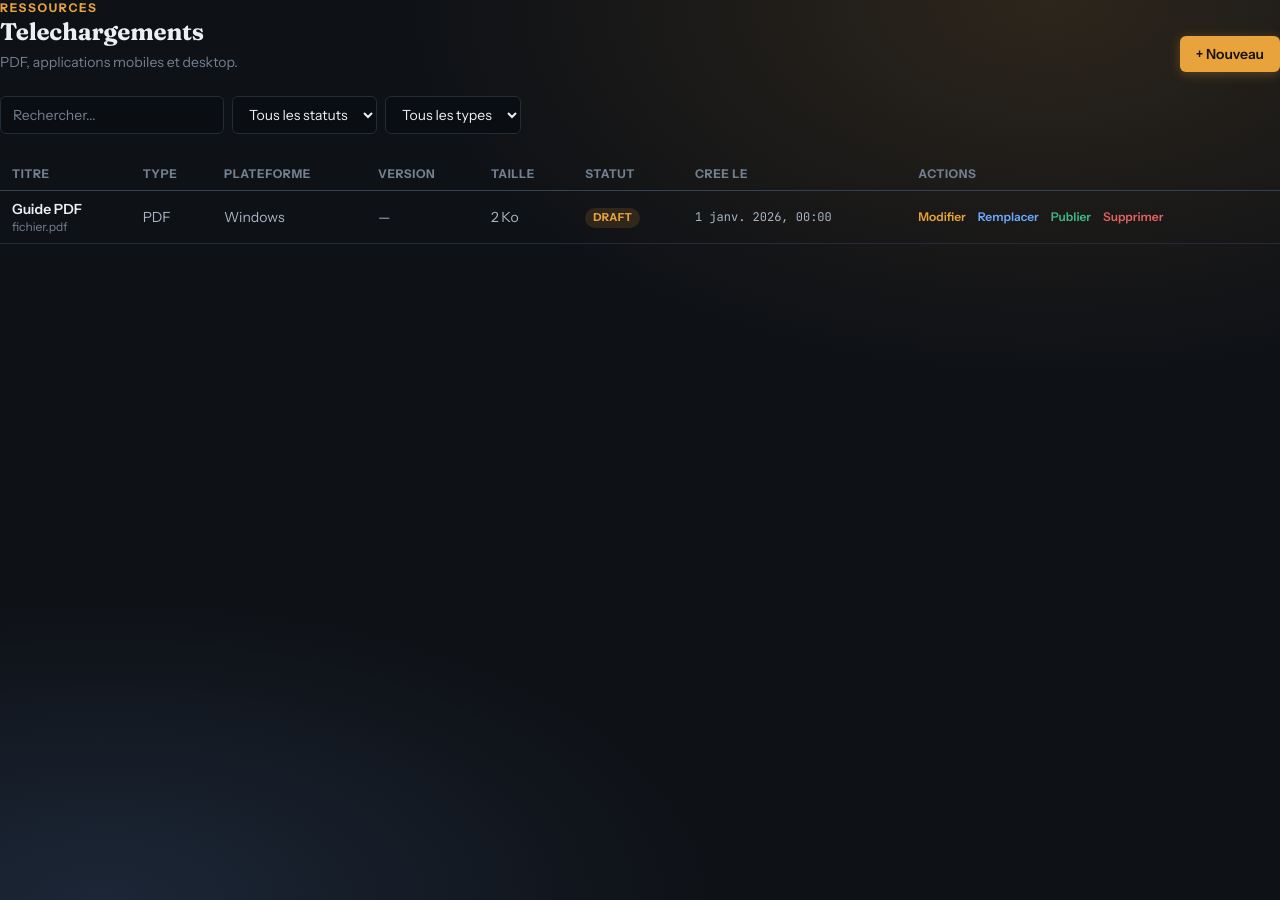
Test: AdminDownloadsPage › ouvre le formulaire de creation
Expected: the text "Guide PDF" is shown, [12,200,82,218]
Click the button "+ Nouveau".
click(1230, 54)  # box [1180,36,1279,72]
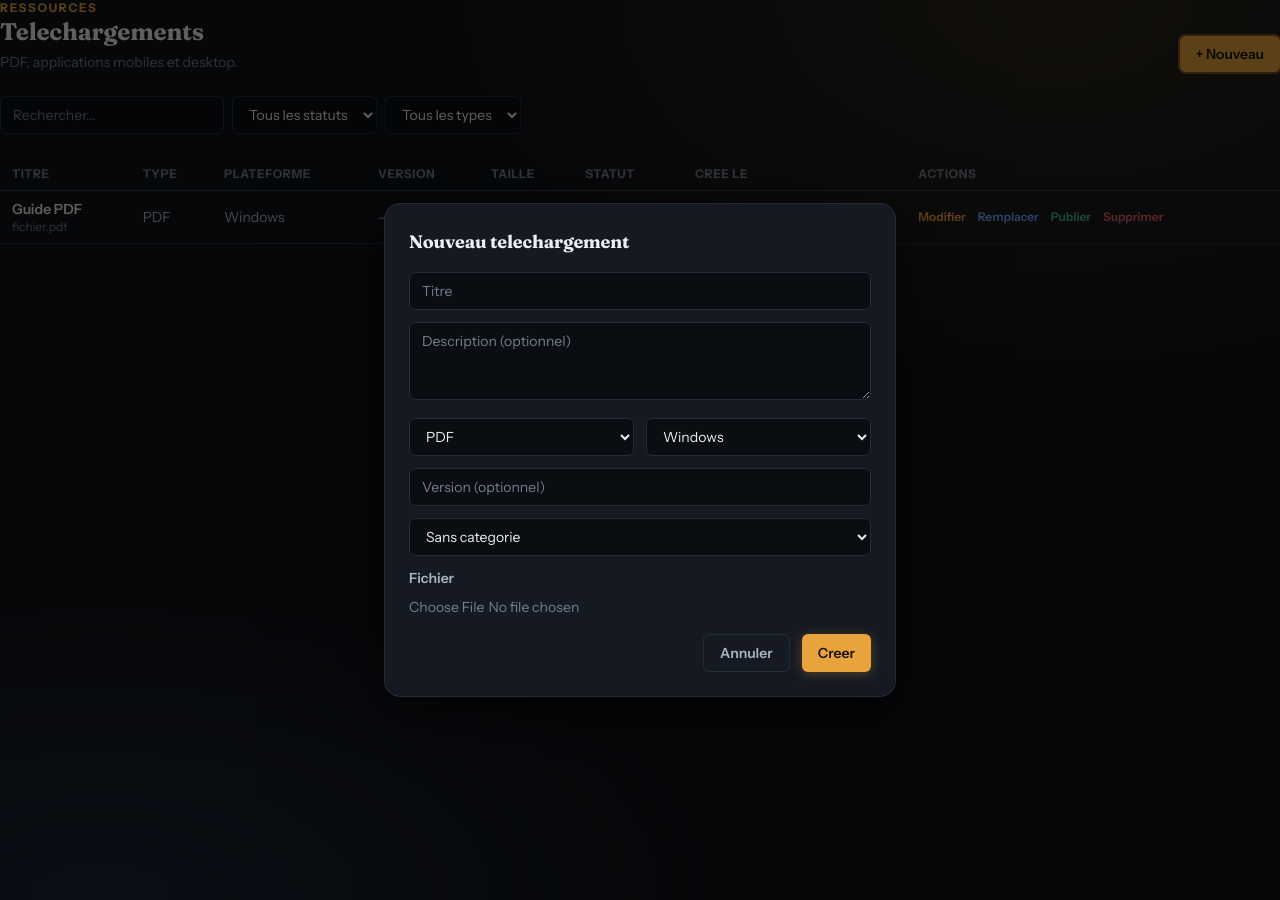
Result: the heading "Nouveau telechargement" is shown at [409,230,629,253]
